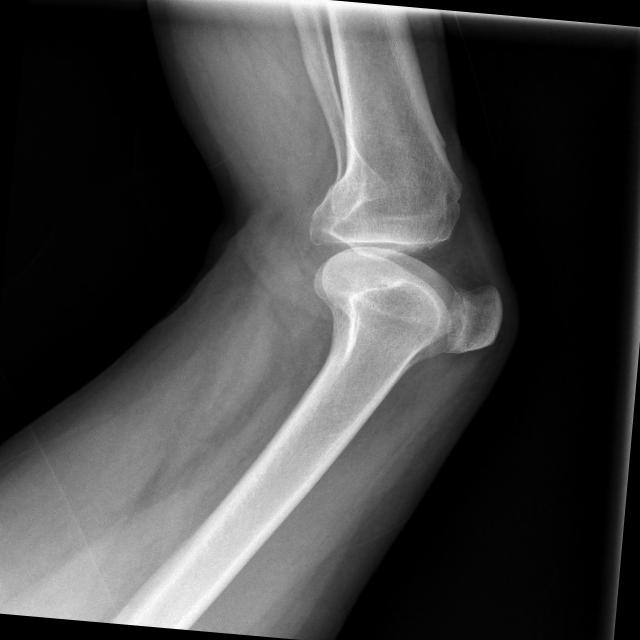Knee: (295, 186, 514, 362)
